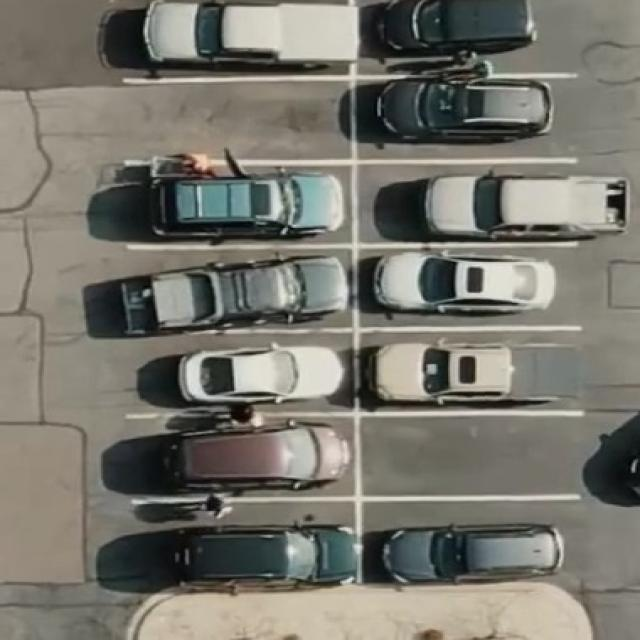space-empty: (116, 76, 352, 163), (357, 413, 584, 500)
space-occupied: (91, 498, 362, 595), (101, 240, 354, 336), (352, 157, 615, 245), (110, 412, 357, 501), (356, 323, 590, 412), (115, 326, 350, 413), (121, 159, 354, 245), (359, 497, 584, 586), (354, 68, 569, 160), (114, 1, 356, 80), (357, 242, 579, 326), (359, 0, 542, 65)
